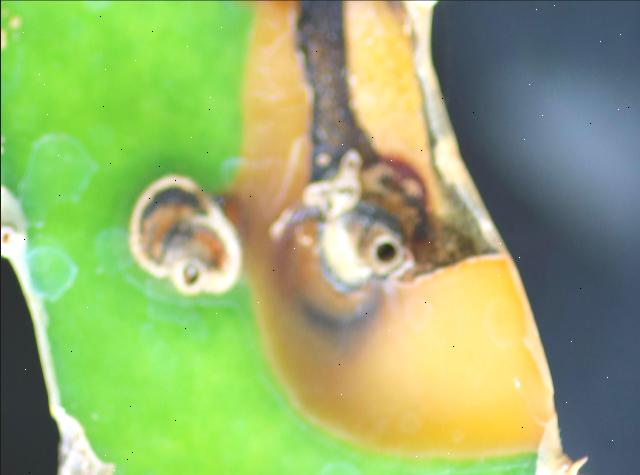stemcanker: (246, 12, 550, 456)
